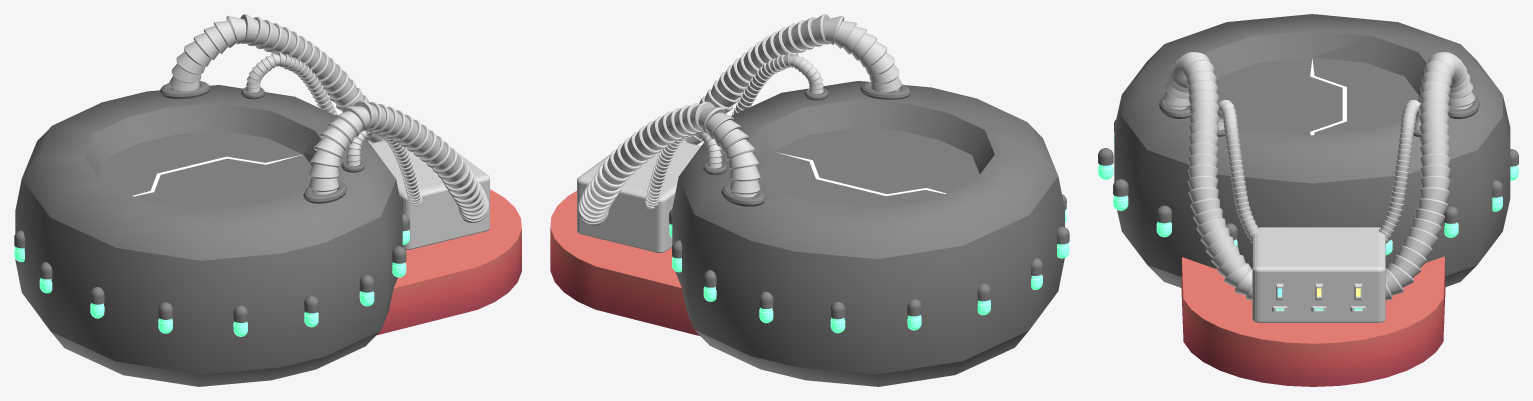
File: Maquina.fbx
3 renders of one model, left to right at view 1: azimuth 30°, elevation 25°; view 2: azimuth 150°, elevation 25°; view 3: azimuth 270°, elevation 25°, orthographic.
Visible parts, largest first — view 1: Torus, Cylinder.006, Cylinder.011, Cylinder.009, Cube.001, Sphere.006, Cylinder.010, Cylinder.008, Torus.003, Torus.001; view 2: Torus, Cylinder.006, Cylinder.009, Cylinder.011, Cube.001, Sphere.006, Cylinder.008, Cylinder.010, Torus.003, Torus.001; view 3: Torus, Cylinder.006, Cube.001, Cylinder.009, Cylinder.011, Sphere.006, Cylinder.008, Cylinder.010.
Part boxes in pixels (box(x1,y1,x2,y2)): Torus: box(15, 85, 402, 386); Cylinder.006: box(377, 189, 521, 335); Cylinder.011: box(309, 100, 488, 222); Cylinder.009: box(169, 14, 384, 143); Cube.001: box(370, 140, 489, 249); Sphere.006: box(14, 213, 409, 336); Cylinder.010: box(246, 52, 336, 115); Cylinder.008: box(346, 130, 422, 205); Torus.003: box(160, 80, 209, 98); Torus.001: box(303, 181, 347, 203); Torus: box(672, 81, 1064, 386); Cylinder.006: box(550, 191, 699, 335); Cylinder.009: box(578, 101, 760, 225); Cylinder.011: box(683, 14, 901, 144); Cube.001: box(577, 141, 700, 252); Sphere.006: box(669, 194, 1069, 333); Cylinder.008: box(732, 53, 823, 115); Cylinder.010: box(645, 132, 722, 209); Torus.003: box(721, 183, 765, 206); Torus.001: box(860, 81, 910, 99); Torus: box(1114, 14, 1510, 287); Cylinder.006: box(1181, 256, 1445, 386); Cube.001: box(1252, 227, 1385, 322); Cylinder.009: box(1385, 52, 1475, 300); Cylinder.011: box(1163, 52, 1252, 300); Sphere.006: box(1098, 120, 1518, 255); Cylinder.008: box(1217, 100, 1259, 242); Cylinder.010: box(1379, 100, 1420, 245).
Bounding box in the file's own units: 2911 × 1373 × 2255.
